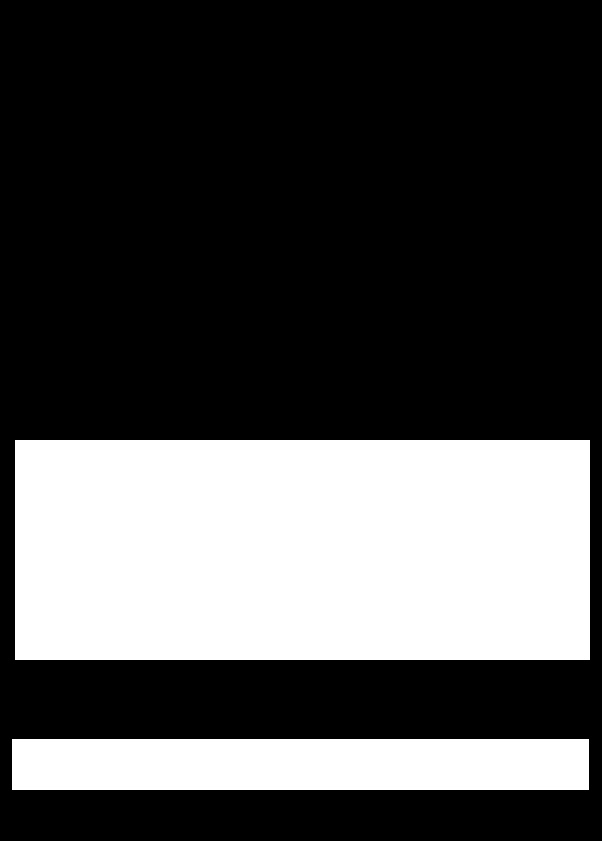table: (15, 440, 589, 659), (12, 739, 588, 789)
